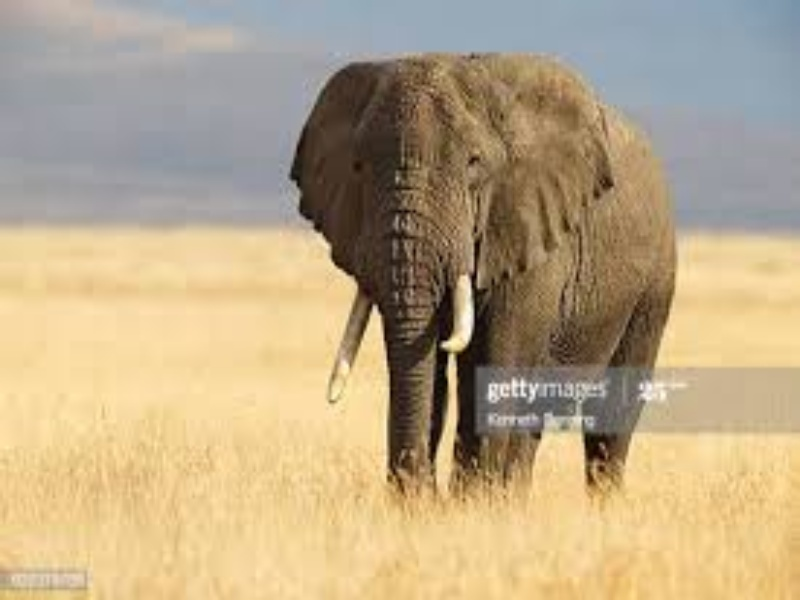elephant: (265, 35, 695, 516)
